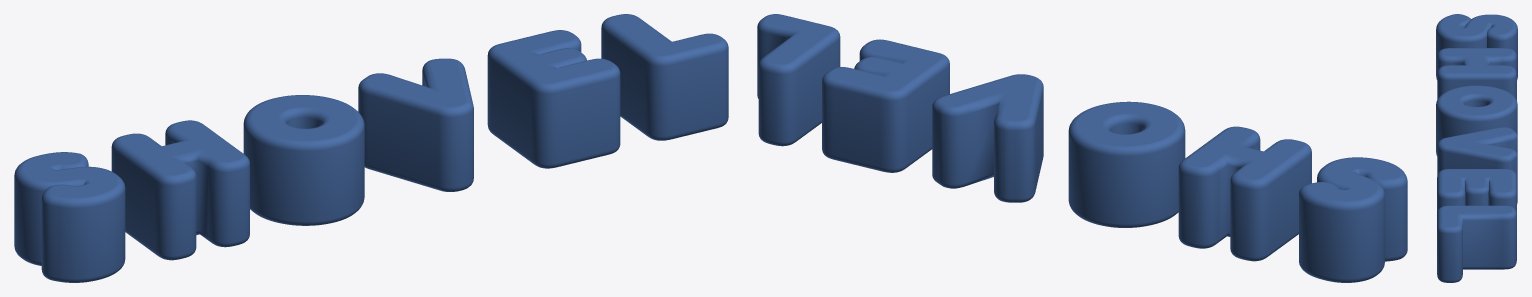
The model's file is Shovel.fbx.
The picture shows the model from 3 angles, left to right: view 1: azimuth 30°, elevation 25°; view 2: azimuth 150°, elevation 25°; view 3: azimuth 270°, elevation 25°; orthographic projection. The views are drawn at different scales.
Visible parts, largest first — view 1: Text.001; view 2: Text.001; view 3: Text.001.
Part boxes in pixels (x1=…): Text.001: x1=14, y1=14, x2=728, y2=282; Text.001: x1=757, y1=14, x2=1407, y2=282; Text.001: x1=1436, y1=14, x2=1517, y2=282.
Bounding box in the file's own units: 302 × 36 × 48.17.
